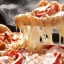pizza: (1, 21, 64, 64), (18, 8, 64, 26)
